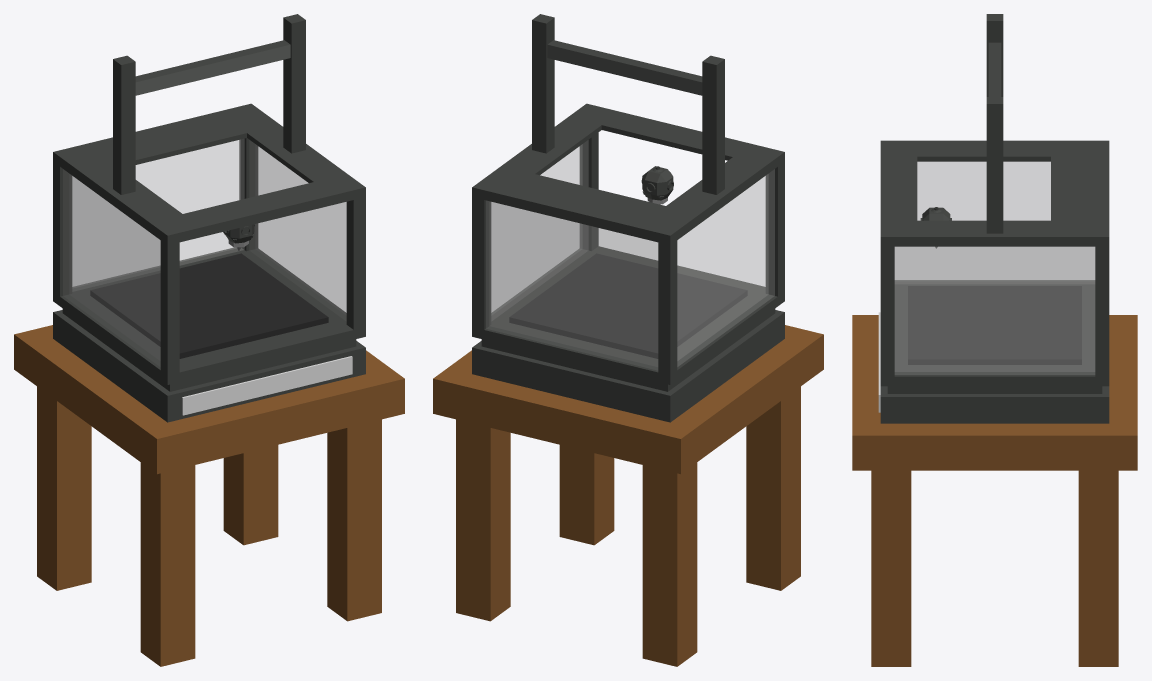
Rendered from Printer.glb.
3 views of the same model, side by side, from view 1: azimuth 30°, elevation 25°; view 2: azimuth 150°, elevation 25°; view 3: azimuth 270°, elevation 25° (orthographic).
Parts seen in each view (by area): view 1: Printer, Table, PLA Holder, Progress Bar; view 2: Printer, Table, PLA Holder, Nozzle + Head; view 3: Printer, Table, PLA Holder.
Boxes of the visible parts, x1,y1,x2,y2 form: Printer: (53,103,365,422); Table: (14,325,404,666); PLA Holder: (113,14,305,194); Progress Bar: (182,356,352,415); Printer: (472,103,784,422); Table: (433,325,823,666); PLA Holder: (532,14,724,194); Nozzle + Head: (641,166,673,204); Printer: (880,140,1109,423); Table: (852,315,1137,666); PLA Holder: (986,14,1003,233).
Size of the model in its own units: 2.5 by 5.35 by 2.5.
